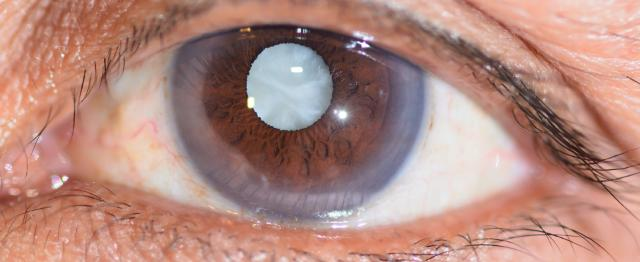eye: (169, 25, 433, 228)
